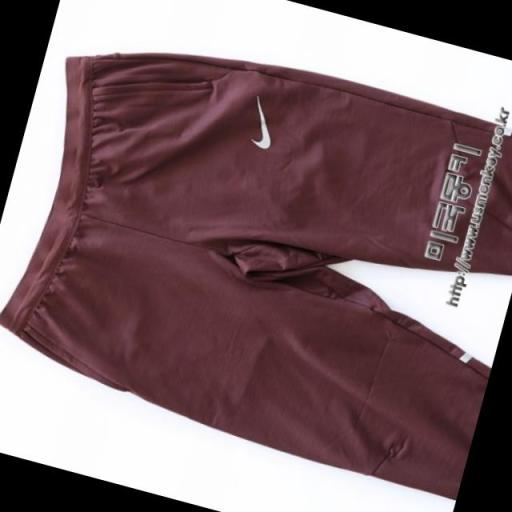Nike: (240, 88, 290, 158)
